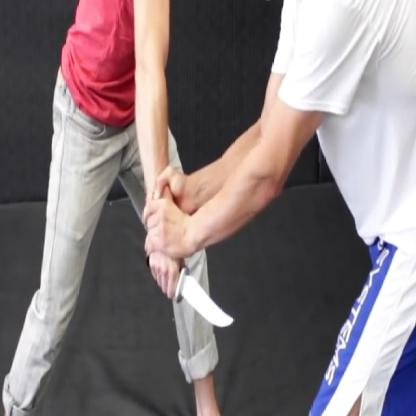knife: (143, 250, 239, 336)
